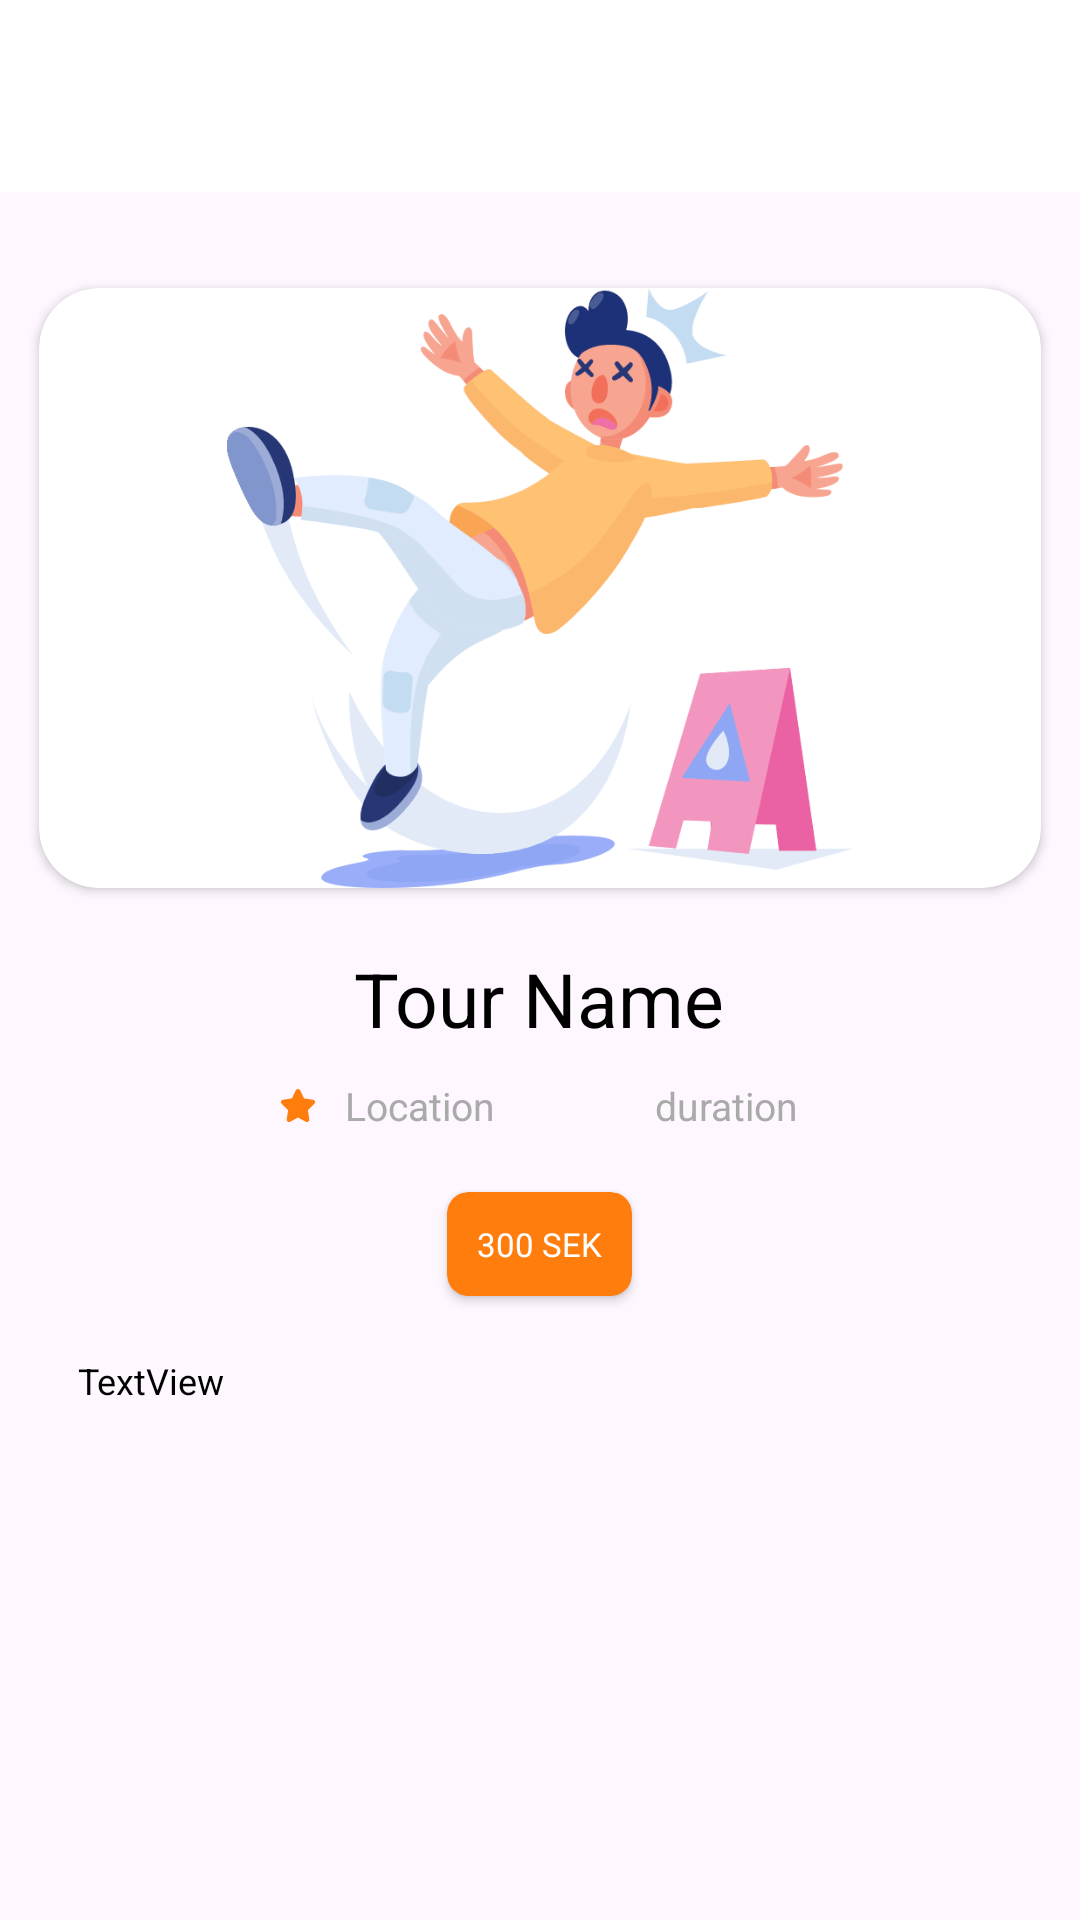

Locate icon controls on the screen. Image size 1080*1920, boxes as (x1, y1, x2, y2).
rating star: (281, 1089, 315, 1122)
